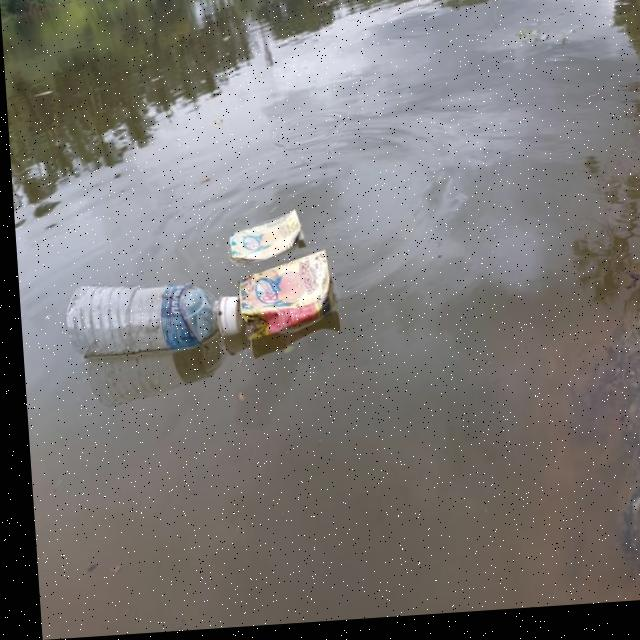paper: (230, 250, 365, 344), (216, 211, 319, 261)
waterbottle: (60, 271, 234, 364)
